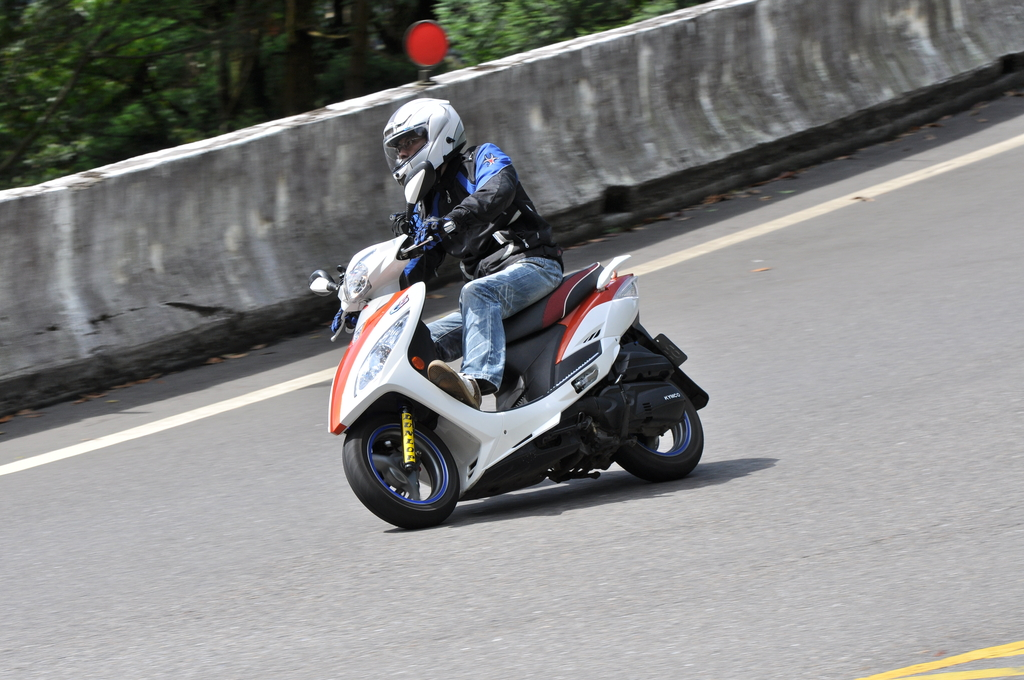helmet: (367, 98, 468, 178)
